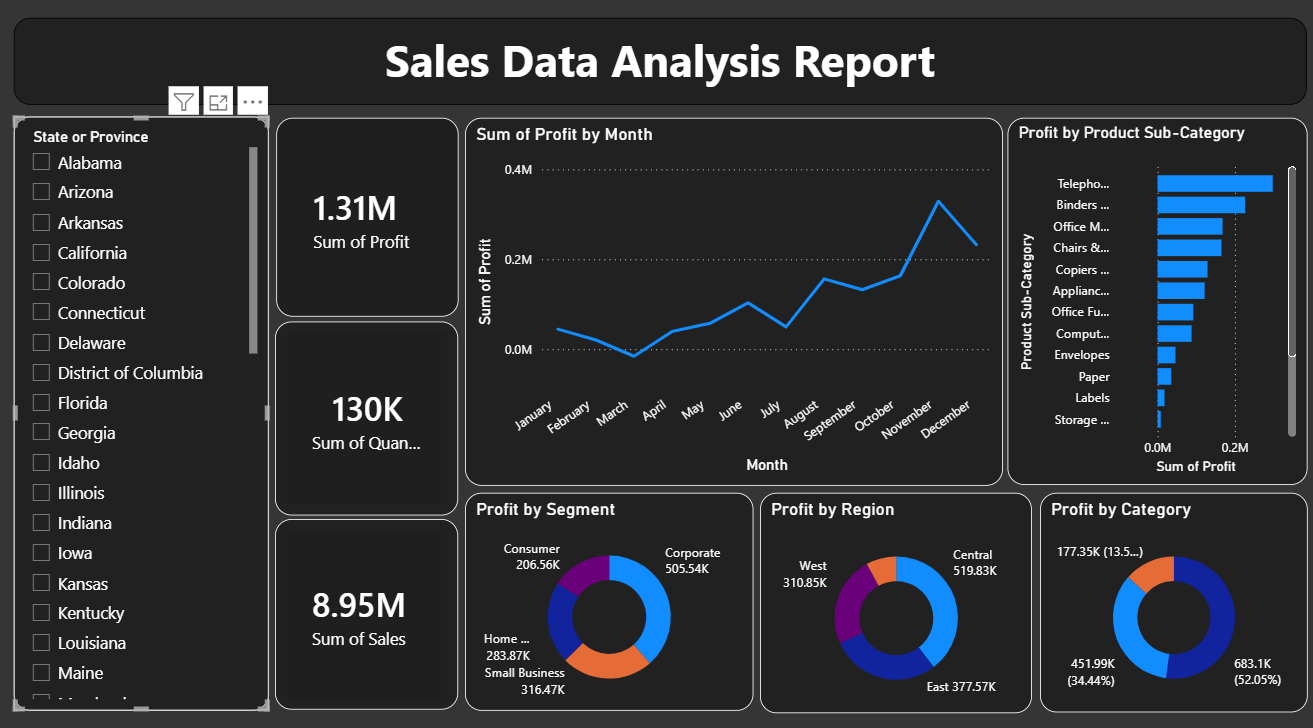

What the dashboard file says about the page in this screenshot:
{"tool":"powerbi","page":{"name":"Report","canvas":[1280,720],"ordinal":0},"visuals":[{"type":"textbox","box":[18.6,23.3,1247.7,83.7],"z":0},{"type":"donutChart","title":"Profit by Segment","fields":{"Category":["Orders.Customer Segment"],"Y":["Sum(Orders.Profit)"]},"box":[453.5,481.4,278,210.5],"z":1000},{"type":"donutChart","title":"Profit by Region","fields":{"Category":["Orders.Region"],"Y":["Sum(Orders.Profit)"]},"box":[738,480.9,262.7,212.6],"z":2000},{"type":"donutChart","title":"Profit by Category","fields":{"Category":["Orders.Category"],"Y":["Sum(Orders.Profit)"]},"box":[1008.1,481.4,258.1,211.6],"z":3000},{"type":"slicer","fields":{"Values":["Orders.State or Province"]},"box":[18.6,118.6,246,573.3],"z":4000},{"type":"cardVisual","fields":{"Data":["Sum(Orders.Sales)"]},"box":[270.2,506.7,177,184],"z":5000},{"type":"cardVisual","fields":{"Data":["Sum(Orders.Quantity ordered new)"]},"box":[269.8,316.3,177,187.2],"z":6000},{"type":"cardVisual","fields":{"Data":["Sum(Orders.Profit)"]},"box":[271.4,119.4,176,192],"z":7000},{"type":"lineChart","fields":{"Y":["Sum(Orders.Profit)"],"Category":["Orders.Order Date.Variation.Date Hierarchy.Month"]},"box":[453.1,119.1,519,355],"z":8000},{"type":"barChart","title":"Profit by Product Sub-Category","fields":{"Category":["Orders.Sub-Category"],"Y":["Sum(Orders.Profit)"]},"box":[977.2,119.4,289.5,354.7],"z":9000}]}

Visuals, with their boxes in screenshot pixels (x1, y1, x2, y2):
textbox: <box>12,17,1303,104</box>
"Profit by Segment" donutChart: <box>462,491,750,709</box>
"Profit by Region" donutChart: <box>756,491,1028,710</box>
"Profit by Category" donutChart: <box>1036,491,1303,710</box>
slicer - Orders.State or Province: <box>12,116,267,709</box>
cardVisual - Sum(Orders.Sales): <box>273,517,456,707</box>
cardVisual - Sum(Orders.Quantity ordered new): <box>272,320,455,514</box>
cardVisual - Sum(Orders.Profit): <box>274,117,456,315</box>
lineChart - Sum(Orders.Profit) x Orders.Order Date.Variation.Date Hierarchy.Month: <box>462,116,999,483</box>
"Profit by Product Sub-Category" barChart: <box>1004,117,1303,483</box>
